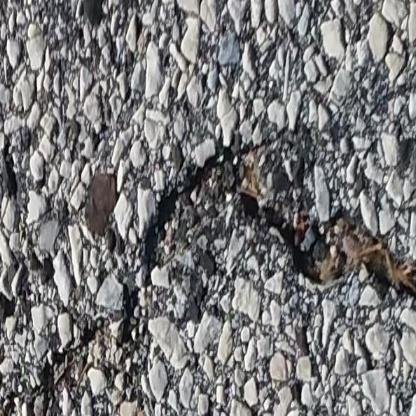Cracks: (32, 157, 416, 416)
